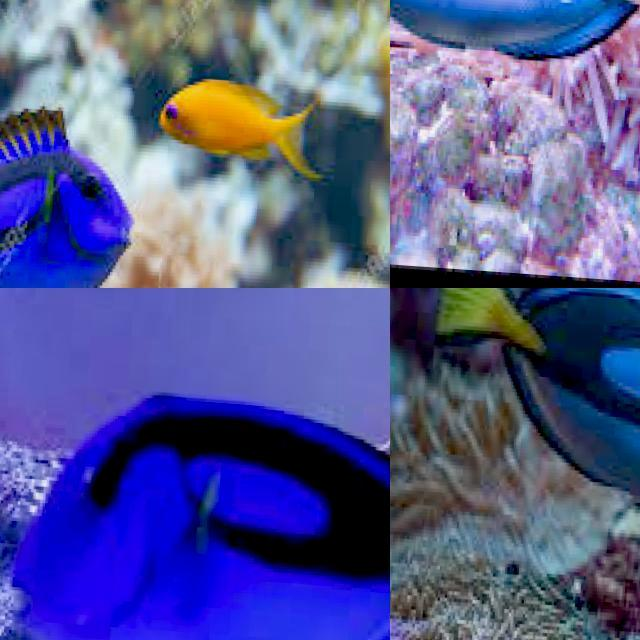BlueTang: (0, 345, 390, 640), (414, 288, 640, 569), (390, 0, 640, 150), (0, 79, 165, 288)
